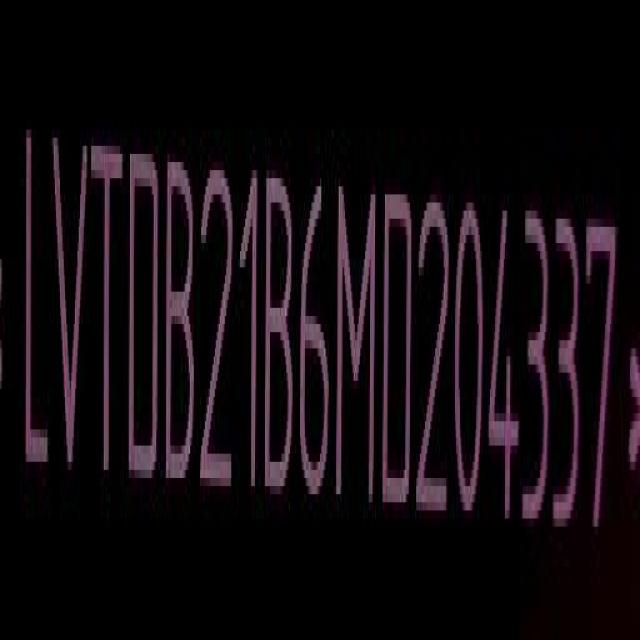0: (457, 198, 486, 524)
1: (238, 162, 258, 504)
2: (203, 164, 236, 506), (418, 190, 451, 526)
3: (524, 207, 552, 532), (557, 213, 584, 536)
4: (490, 198, 523, 530)
6: (300, 172, 333, 502)
7: (591, 215, 620, 541)
B: (165, 150, 199, 490), (264, 166, 295, 499)
D: (128, 144, 162, 488), (382, 172, 414, 508)
L: (19, 124, 50, 488)
M: (337, 179, 377, 510)
T: (94, 135, 125, 492)
V: (49, 126, 89, 487)
